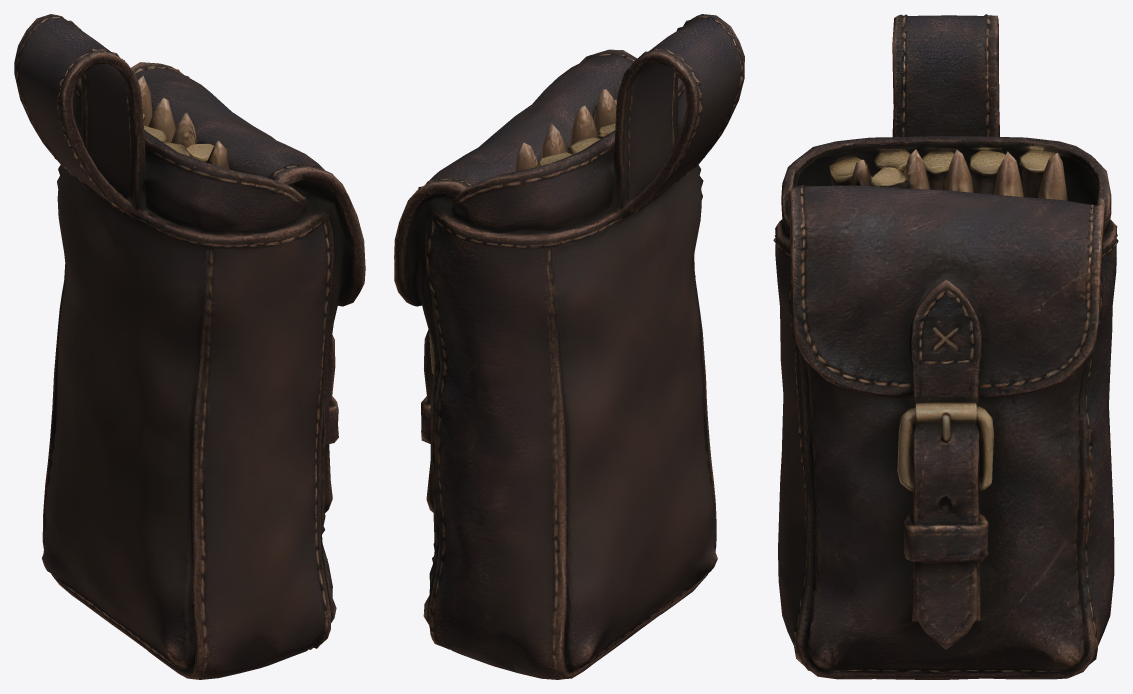
Rendered from ammo_pouch.glb.
3 views of the same model, side by side, from view 1: azimuth 30°, elevation 25°; view 2: azimuth 150°, elevation 25°; view 3: azimuth 270°, elevation 25° (orthographic). The views are drawn at different scales.
Parts seen in each view (by area): view 1: tripo_node_b2f19c3b-6ab4-4150-8206-bdabec259eb1; view 2: tripo_node_b2f19c3b-6ab4-4150-8206-bdabec259eb1; view 3: tripo_node_b2f19c3b-6ab4-4150-8206-bdabec259eb1.
Part boxes in pixels (x1,y1,x2,y2): tripo_node_b2f19c3b-6ab4-4150-8206-bdabec259eb1: (14,14,365,679); tripo_node_b2f19c3b-6ab4-4150-8206-bdabec259eb1: (394,14,744,679); tripo_node_b2f19c3b-6ab4-4150-8206-bdabec259eb1: (773,14,1118,679).
Bounding box in the file's own units: 0.4884 × 1 × 0.5338.
1 material, 1 textured.
